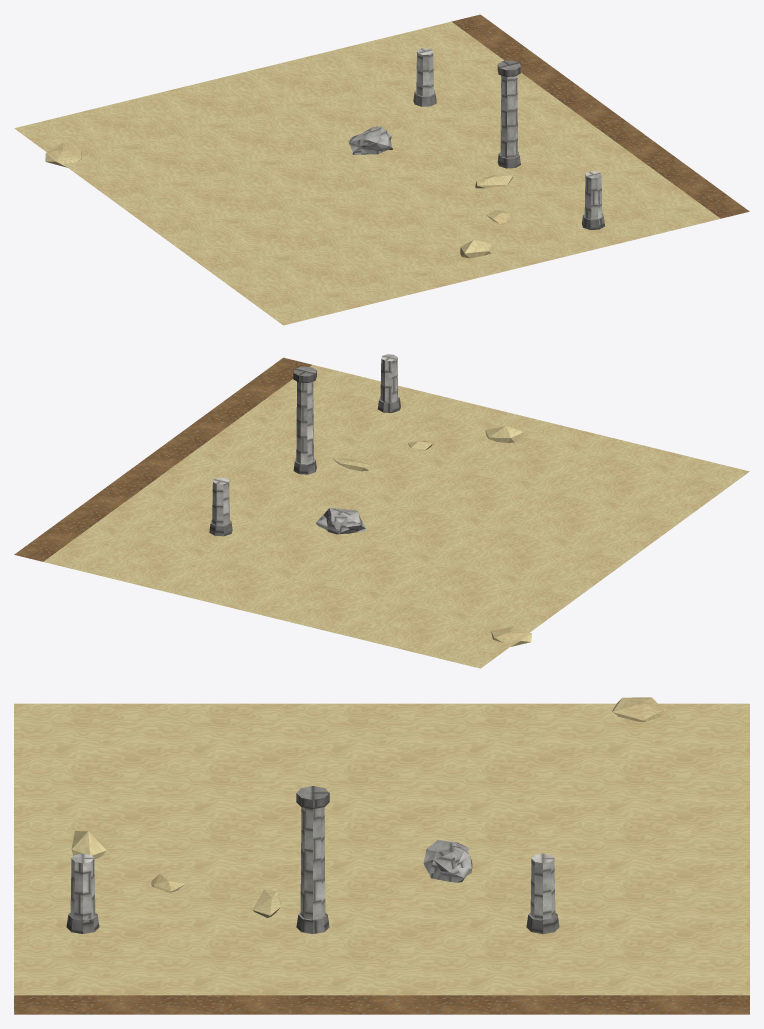
Rendered from chunk_5_20.glb.
The picture shows the model from 3 angles, top to bottom: view 1: azimuth 30°, elevation 25°; view 2: azimuth 150°, elevation 25°; view 3: azimuth 270°, elevation 25°; orthographic projection. The views are drawn at different scales.
Parts seen in each view (by area): view 1: chunk_5_20; view 2: chunk_5_20; view 3: chunk_5_20.
Boxes of the visible parts, left/top/right/bottom form: chunk_5_20: left=14, top=14, right=749, bottom=325; chunk_5_20: left=14, top=354, right=749, bottom=668; chunk_5_20: left=14, top=697, right=749, bottom=1014.
Size of the model in its own units: 16.33 by 3.58 by 16.
Materials: 5 (5 with a texture image).
